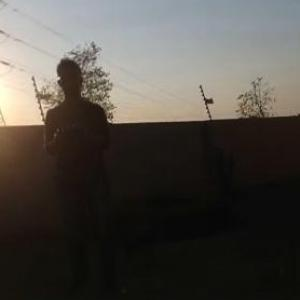follow: (41, 49, 119, 290)
